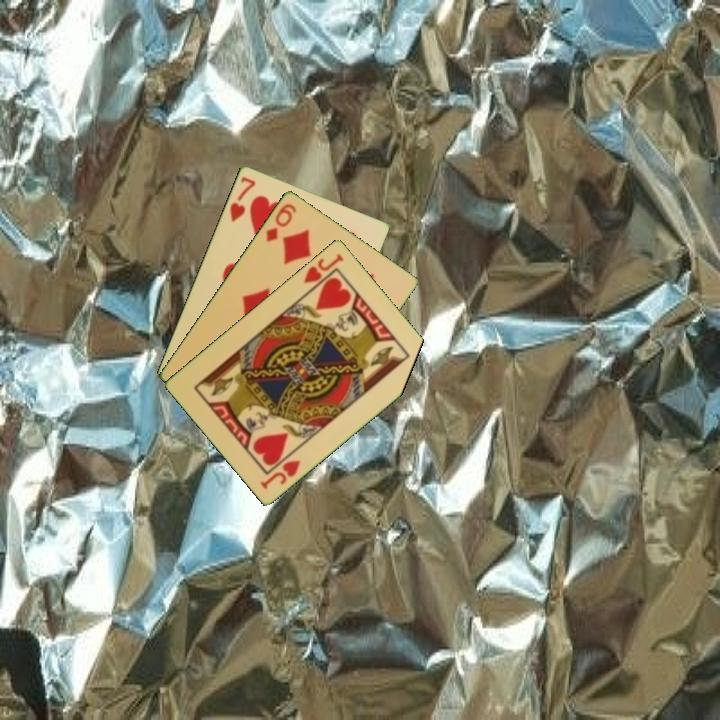6d: (262, 199, 299, 245)
7h: (226, 173, 258, 225)
Jh: (300, 249, 347, 286), (257, 456, 303, 492)
